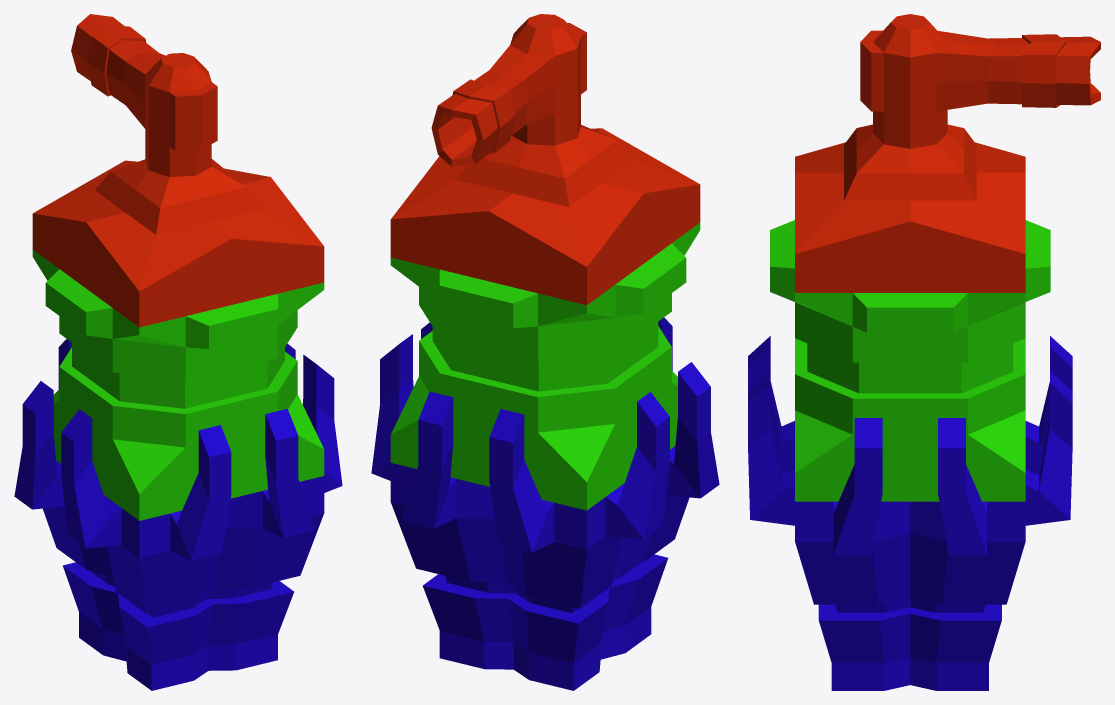
Rendered from BasicTower1.fbx.
3 renders of one model, left to right at view 1: azimuth 30°, elevation 25°; view 2: azimuth 150°, elevation 25°; view 3: azimuth 270°, elevation 25°, orthographic. The views are drawn at different scales.
Parts seen in each view (by area): view 1: Bottom, Top, Middle; view 2: Bottom, Top, Middle; view 3: Bottom, Top, Middle.
Boxes of the visible parts, left/top/right/bottom form: Bottom: left=14, top=339, right=342, bottom=690; Top: left=32, top=14, right=324, bottom=327; Middle: left=32, top=250, right=324, bottom=520; Bottom: left=371, top=317, right=719, bottom=690; Top: left=390, top=14, right=700, bottom=305; Middle: left=390, top=222, right=700, bottom=510; Bottom: left=748, top=336, right=1072, bottom=690; Top: left=795, top=14, right=1100, bottom=292; Middle: left=770, top=220, right=1050, bottom=501.
Size of the model in its own units: 282 by 609 by 306.
